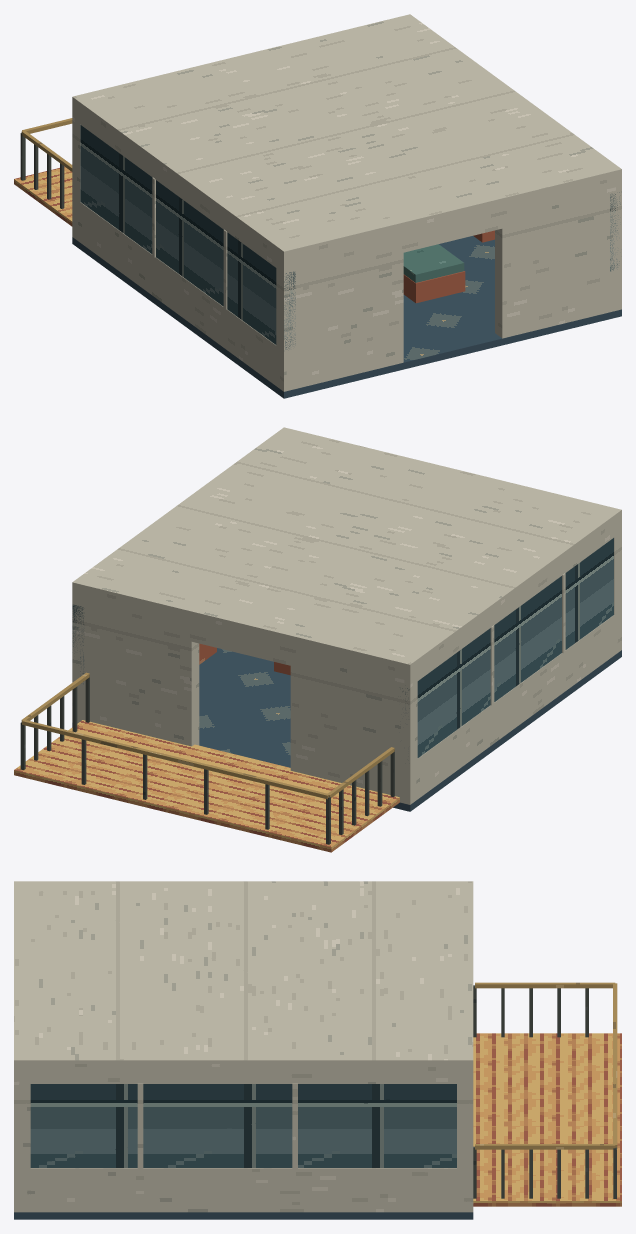
The model's file is mv-suite.glb.
The picture shows the model from 3 angles, top to bottom: view 1: azimuth 30°, elevation 25°; view 2: azimuth 150°, elevation 25°; view 3: azimuth 270°, elevation 25°; orthographic projection. The views are drawn at different scales.
Parts seen in each view (by area): view 1: shell.006, floor_mv-suite, fittings.006; view 2: shell.006, fittings.006, floor_mv-suite; view 3: shell.006, fittings.006, floor_mv-suite.
Part boxes in pixels (x1=…): shell.006: x1=72, y1=14, x2=621, y2=391; floor_mv-suite: x1=72, y1=236, x2=621, y2=398; fittings.006: x1=14, y1=118, x2=494, y2=303; shell.006: x1=72, y1=427, x2=621, y2=804; fittings.006: x1=14, y1=643, x2=399, y2=852; floor_mv-suite: x1=72, y1=648, x2=621, y2=811; shell.006: x1=14, y1=881, x2=473, y2=1212; fittings.006: x1=473, y1=982, x2=621, y2=1206; floor_mv-suite: x1=14, y1=1212, x2=473, y2=1219.
Bounding box in the file's own units: 8.24 × 3.41 × 11.78.
9 materials, 9 textured.
